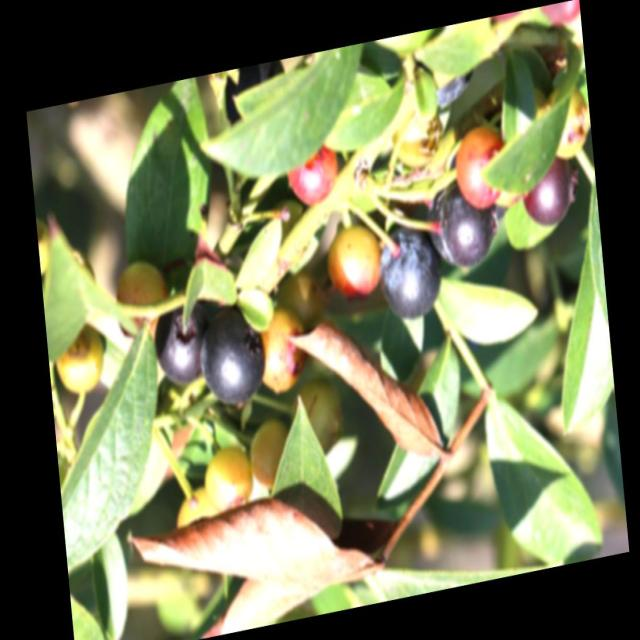blueberry: (193, 300, 270, 413), (373, 216, 442, 326), (149, 290, 215, 392), (435, 174, 501, 272), (514, 144, 580, 234)
blueberry-halfripe: (451, 122, 511, 214), (322, 220, 385, 302), (282, 136, 342, 212), (255, 312, 306, 396)
blueberry-unripe: (111, 253, 169, 345), (53, 314, 109, 399), (200, 441, 256, 520), (294, 377, 344, 459), (245, 417, 298, 492), (544, 81, 590, 162), (167, 485, 219, 530)
